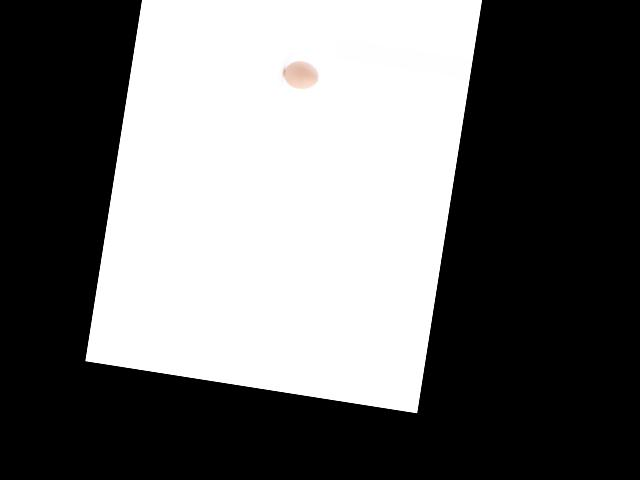egg: (282, 58, 320, 90)
